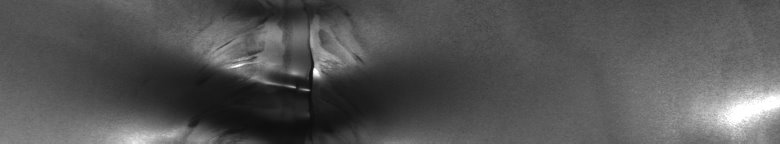ke: (144, 9, 366, 136)
